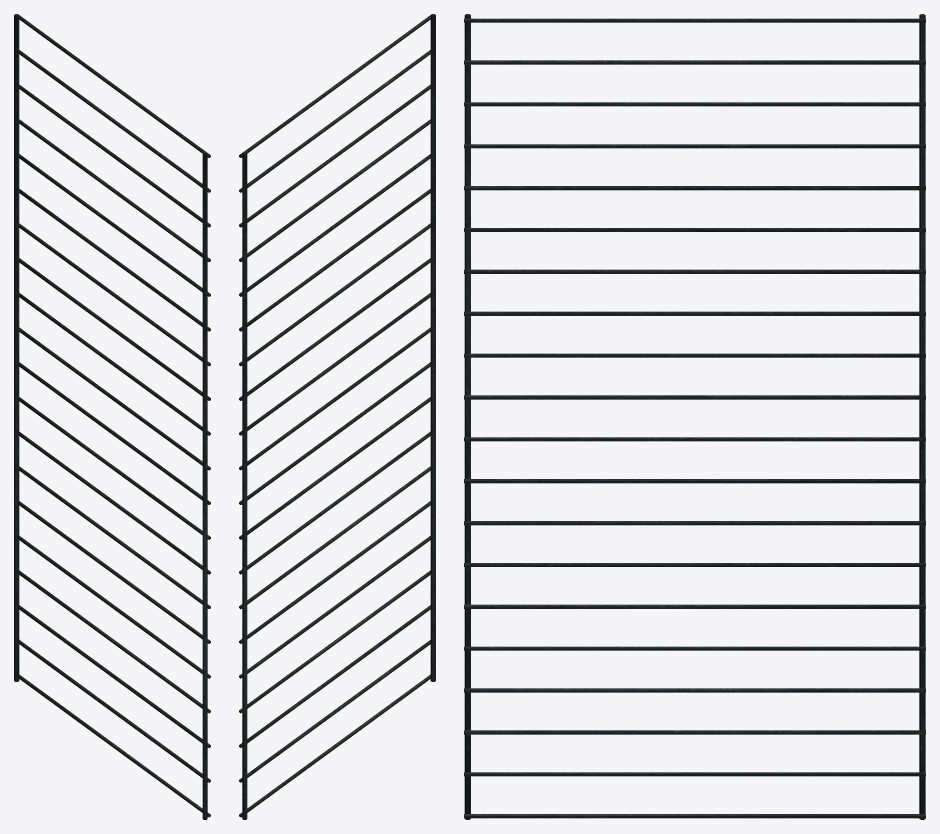
The model's file is CageWallFinal.fbx.
3 views of the same model, side by side, from view 1: azimuth 30°, elevation 25°; view 2: azimuth 150°, elevation 25°; view 3: azimuth 270°, elevation 25° (orthographic). The views are drawn at different scales.
Parts seen in each view (by area): view 1: Cylinder; view 2: Cylinder; view 3: Cylinder.
Part boxes in pixels (x1,y1,x2,y2): Cylinder: (14, 14, 210, 819); Cylinder: (239, 14, 435, 819); Cylinder: (464, 14, 925, 819).
Bounding box in the file's own units: 9.38 × 960 × 500.
1 material, 1 textured.
